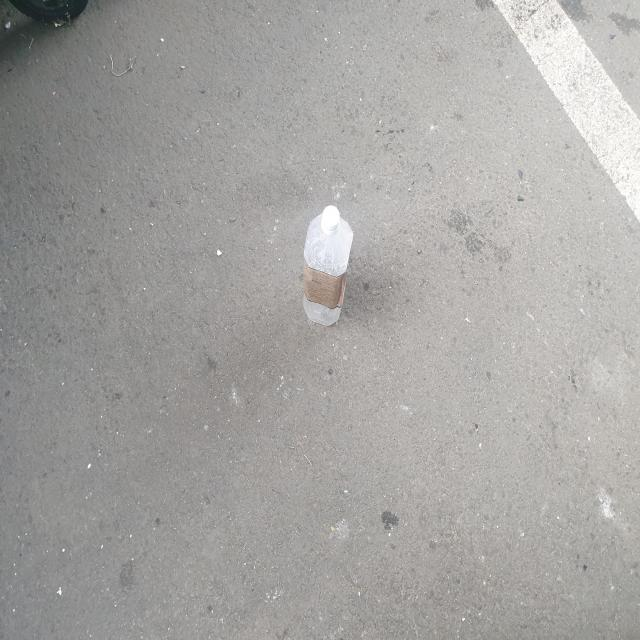plastic: (303, 204, 354, 326)
